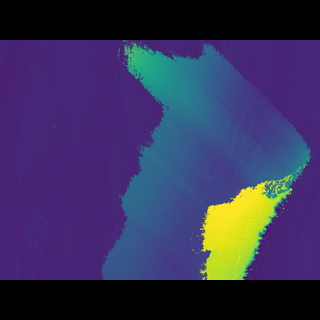Loch: (91, 69, 317, 250)
